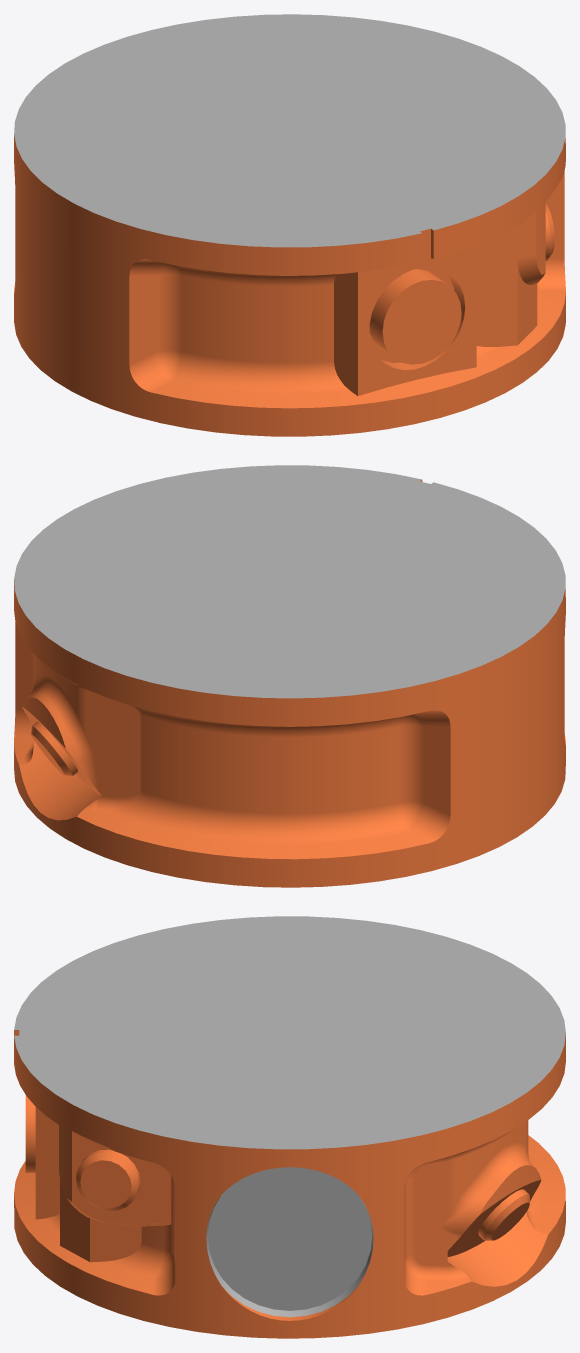
The model's file is irb140_link_5.obj.
The picture shows the model from 3 angles, top to bottom: view 1: azimuth 30°, elevation 25°; view 2: azimuth 150°, elevation 25°; view 3: azimuth 270°, elevation 25°; orthographic projection.
Visible parts, largest first — view 1: Solid1; view 2: Solid1; view 3: Solid1.
Boxes of the visible parts, left/top/right/bottom form: Solid1: left=14, top=14, right=565, bottom=436; Solid1: left=14, top=465, right=565, bottom=887; Solid1: left=14, top=916, right=565, bottom=1338.
Size of the model in its own units: 84.58 by 32 by 84.6.
